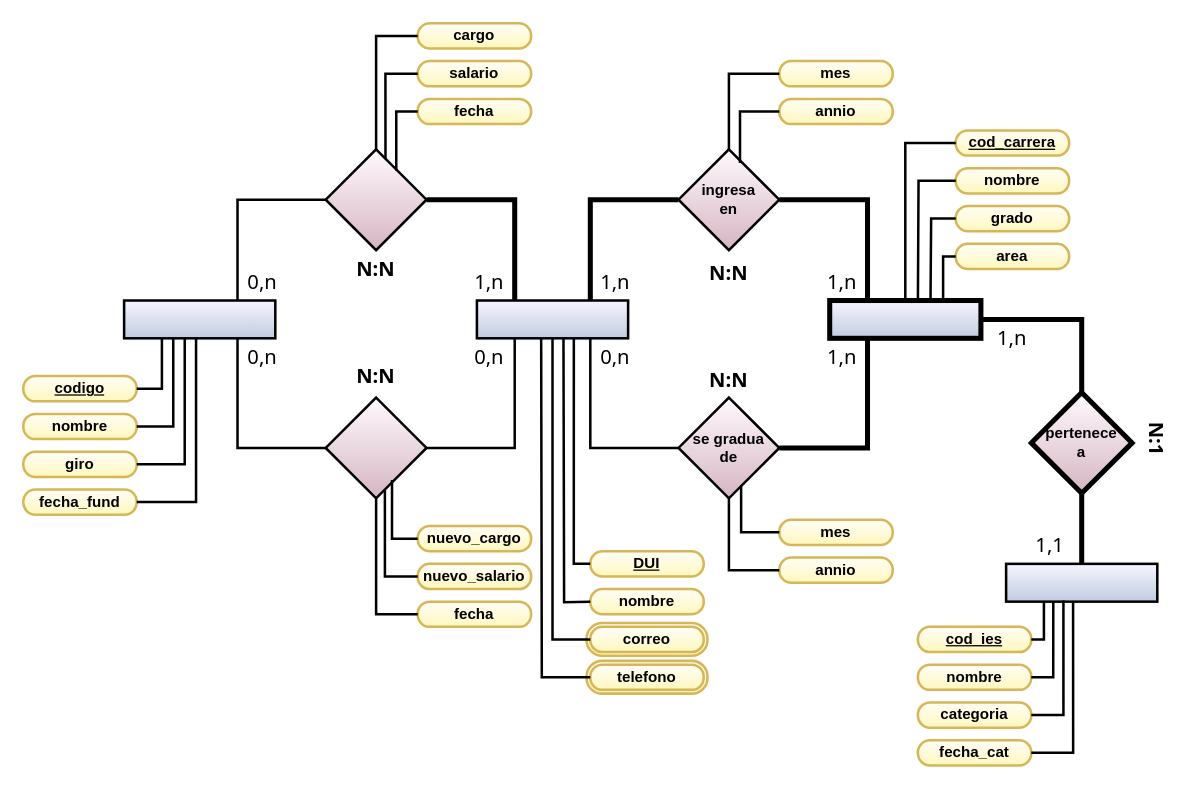
Some shapes in this 1192 by 788 pixel diagram are drawn without their labels. Each missing label, with the box of its shape:
asciende en: (324, 396, 427, 499)
CARRERA: (827, 297, 983, 340)
EMPRESA: (122, 299, 276, 339)
es contratado por: (324, 147, 427, 251)
IES: (1004, 562, 1158, 602)
PROFESIONAL: (475, 299, 629, 339)
